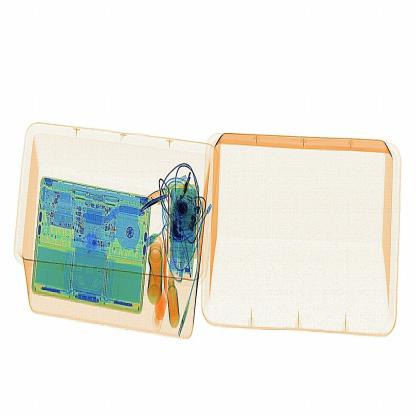pliers: (144, 193, 173, 218)
